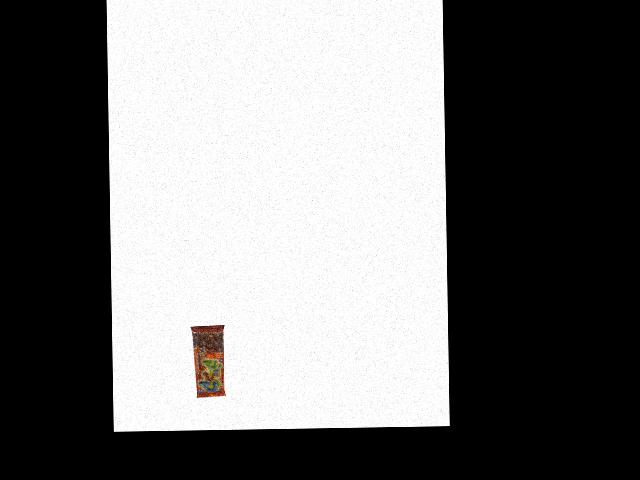chocolate: (192, 324, 225, 398)
